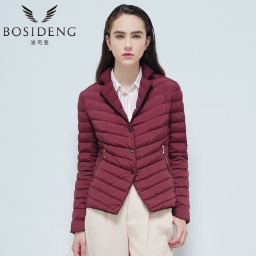face: (99, 5, 158, 66)
